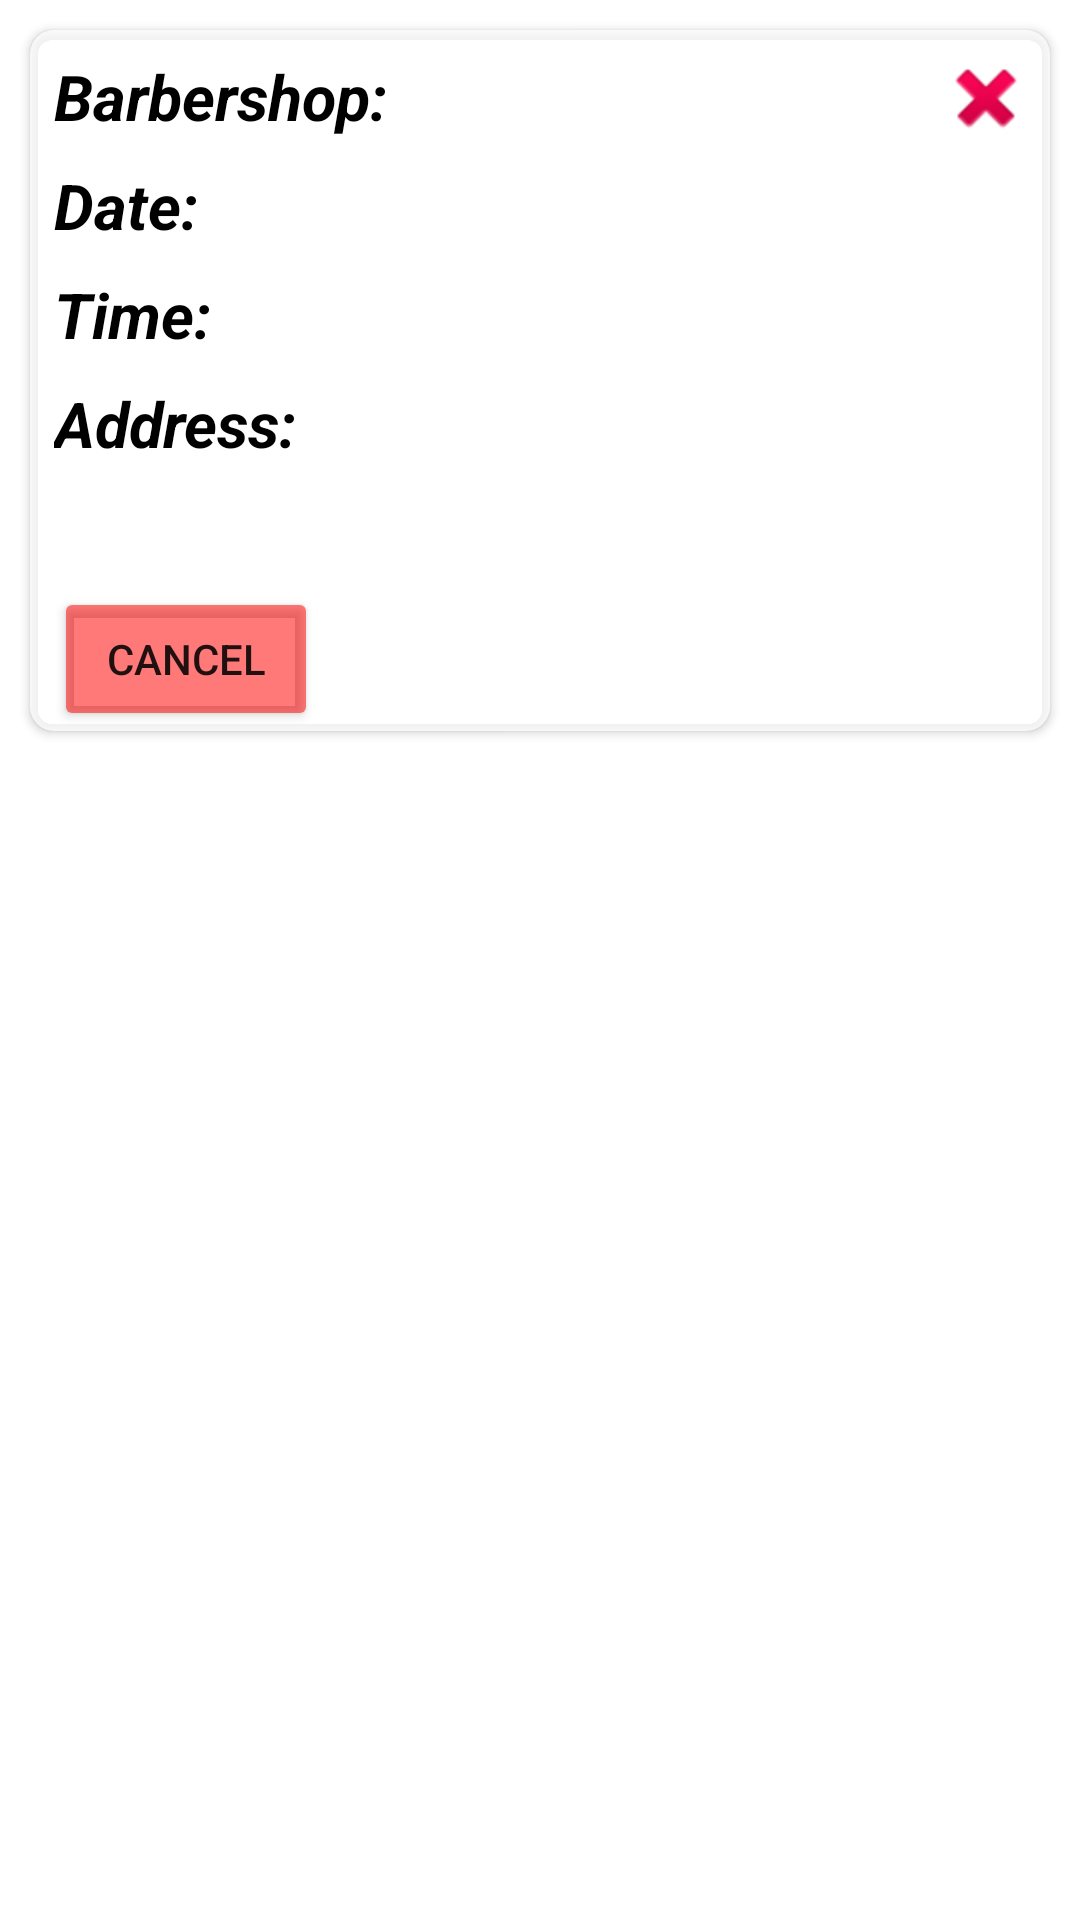

Locate icon controls on the screen. Image size 1080x1920, boxes as box(x1, y1, x2, y2).
delete: box(955, 69, 1017, 128)
